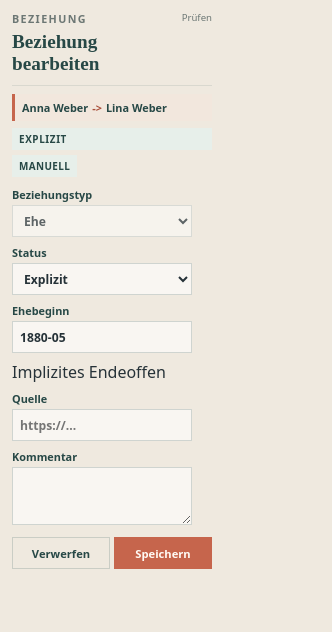
Test case: RelationshipInspector › shows a start-date validation error without hiding the field
Replace the text in the field labelled "Ehebeginn" with "1900-02-29" at (102, 337), box [12,321,192,353]
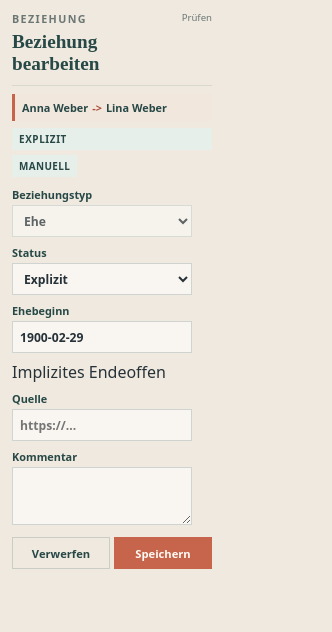
Click the button with aria-label "Beziehung speichern".
click(163, 553)  # box [114,537,212,569]
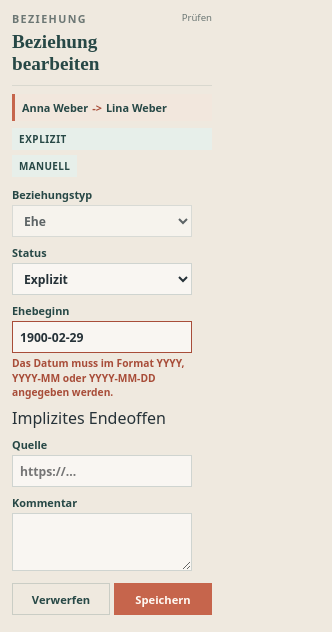
Expected: the text "Das Datum muss im Format YYYY, YYYY-MM oder YYYY-MM-DD angegeben werden." is shown, [12,356,212,399]
